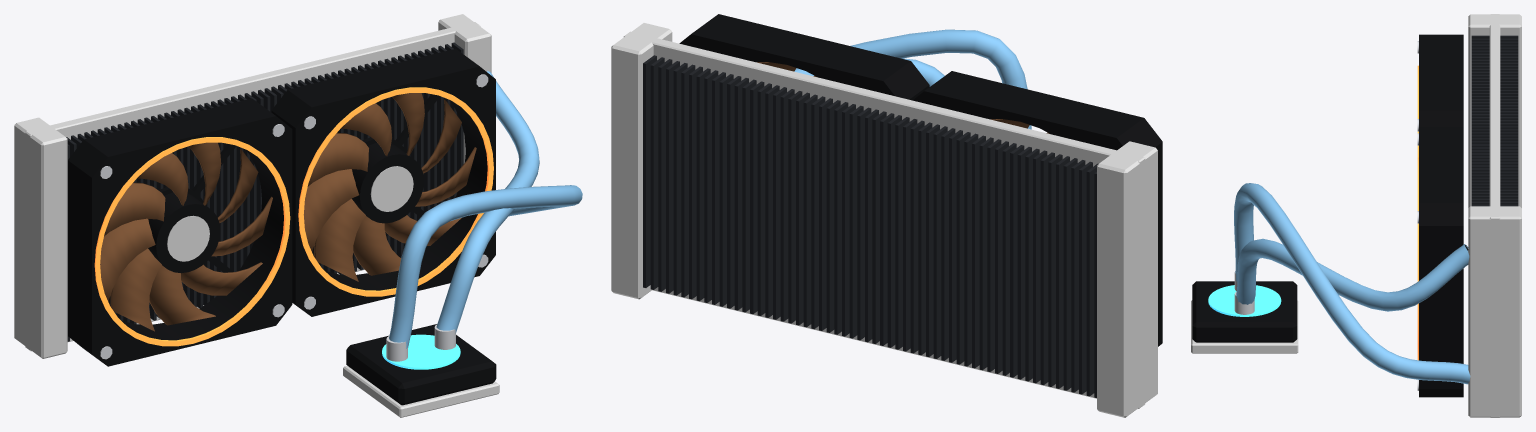
Rendered from hw_cool_aio_240.glb.
3 views of the same model, side by side, from view 1: azimuth 30°, elevation 25°; view 2: azimuth 150°, elevation 25°; view 3: azimuth 270°, elevation 25° (orthographic). The views are drawn at different scales.
Parts seen in each view (by area): view 1: Body, Rotor_Z_0, Rotor_Z_1, Flow_1, Flow_0; view 2: Body, Flow_1, Flow_0; view 3: Body, Flow_1, Flow_0.
Part boxes in pixels (left/top/right/bottom): Body: left=14, top=14, right=499, bottom=417; Rotor_Z_0: left=100, top=142, right=272, bottom=331; Rotor_Z_1: left=303, top=93, right=476, bottom=281; Flow_1: left=389, top=185, right=582, bottom=348; Flow_0: left=436, top=71, right=539, bottom=333; Body: left=611, top=14, right=1162, bottom=417; Flow_1: left=796, top=29, right=1031, bottom=129; Flow_0: left=794, top=58, right=944, bottom=86; Body: left=1191, top=14, right=1521, bottom=417; Flow_1: left=1234, top=183, right=1470, bottom=384; Flow_0: left=1236, top=238, right=1469, bottom=311.
Bounding box in the file's own units: 0.2959 × 0.124 × 0.185.
